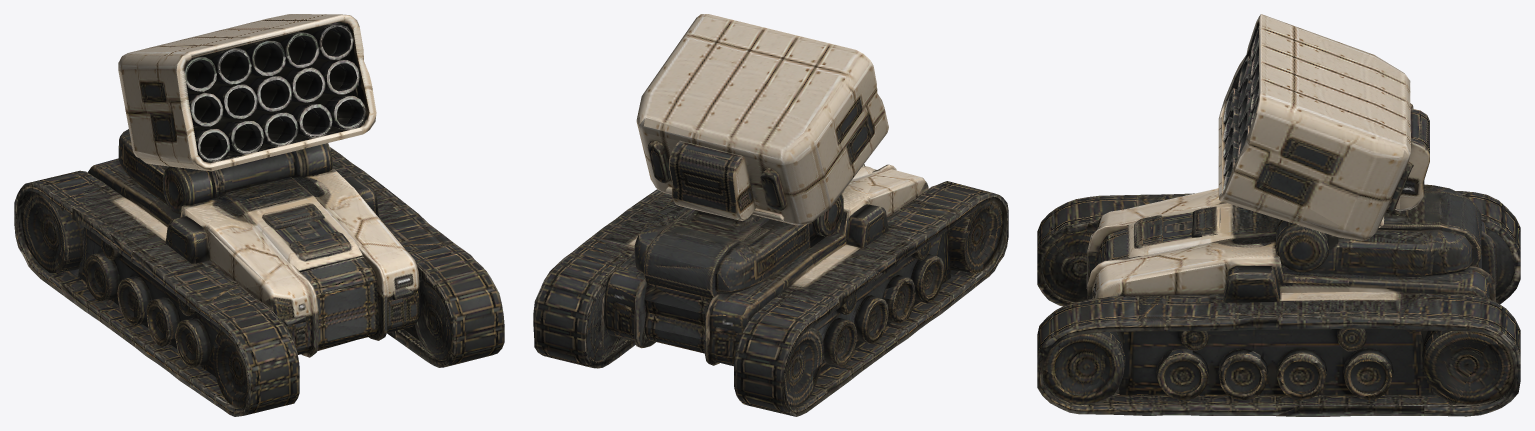
Rendered from behemoth-textured.glb.
3 renders of one model, left to right at view 1: azimuth 30°, elevation 25°; view 2: azimuth 150°, elevation 25°; view 3: azimuth 270°, elevation 25°, orthographic. The views are drawn at different scales.
Parts seen in each view (by area): view 1: mesh_node; view 2: mesh_node; view 3: mesh_node.
Part boxes in pixels (x1=…): mesh_node: x1=14, y1=14, x2=504, y2=416; mesh_node: x1=533, y1=14, x2=1008, y2=416; mesh_node: x1=1037, y1=14, x2=1520, y2=416.
Bounding box in the file's own units: 0.6367 × 0.6816 × 1.
1 material, 1 textured.
